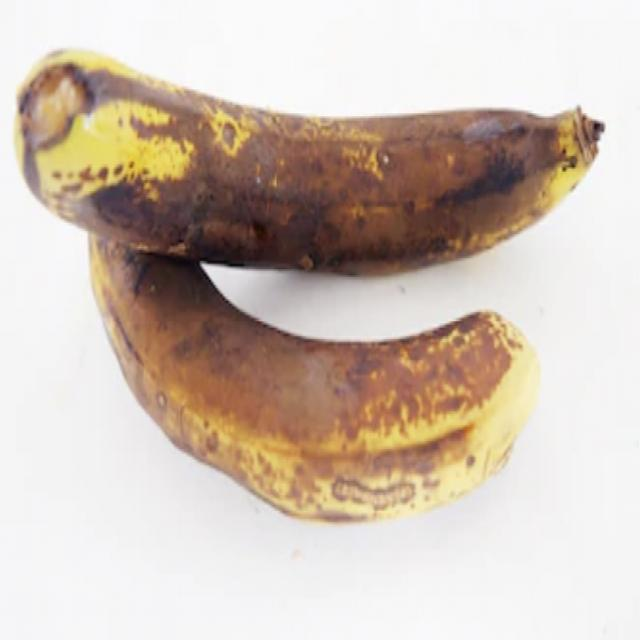rotten-banana: (15, 38, 601, 268), (88, 232, 538, 512)
